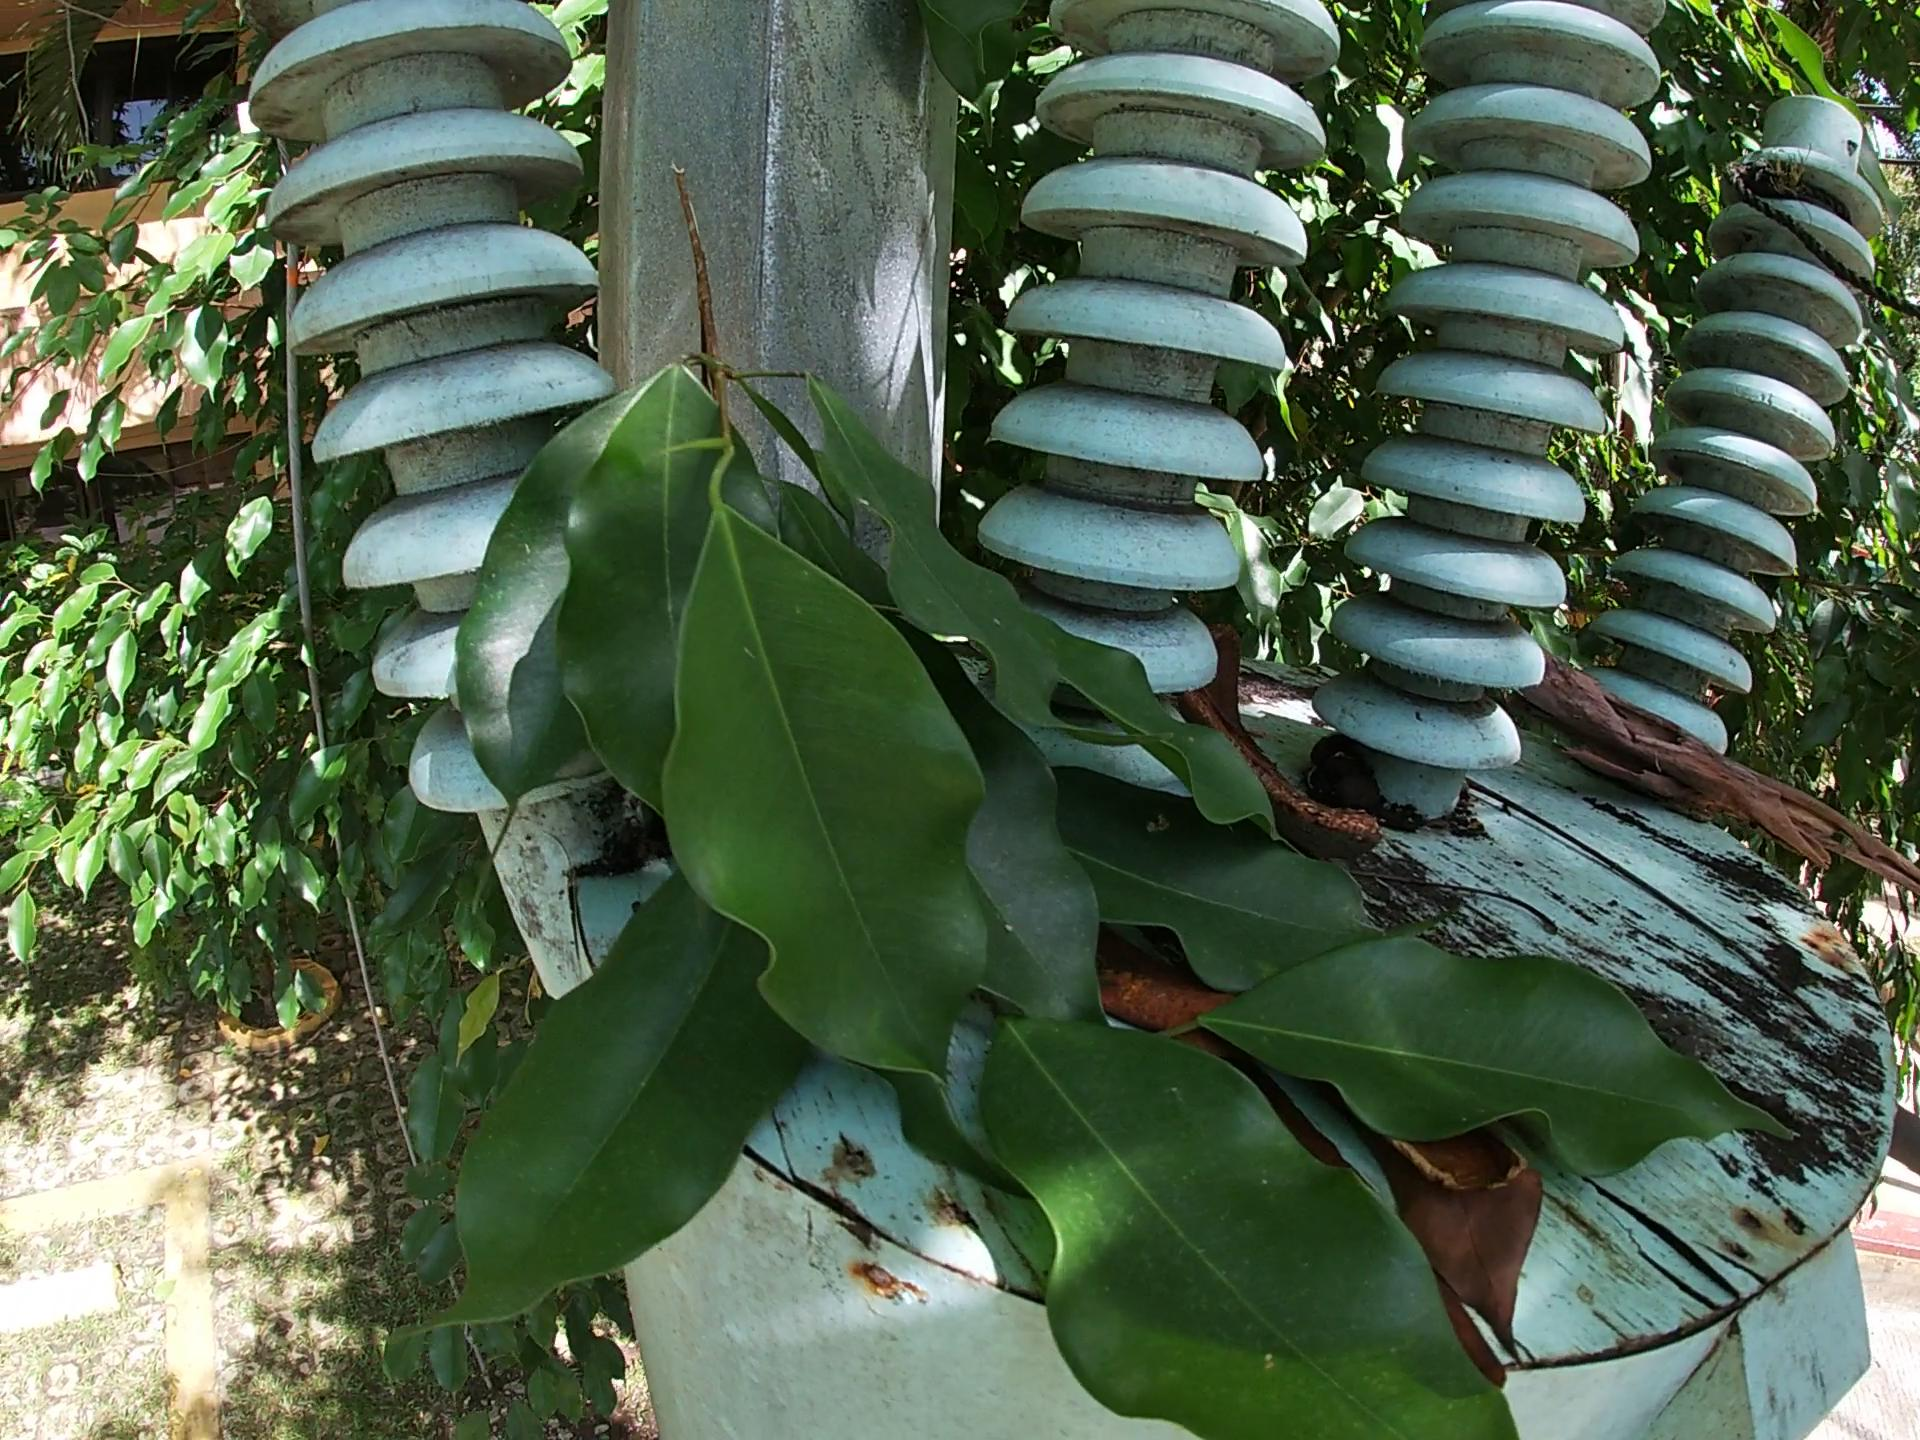branch with leaves: (358, 130, 1853, 1434)
leaf: (1409, 1184, 1534, 1384), (1104, 945, 1222, 1029)
mahogany fruit: (1187, 593, 1435, 849), (1403, 1109, 1522, 1187)
tree branch: (1516, 634, 1875, 923), (1469, 779, 1850, 1044), (1364, 861, 1580, 942)
